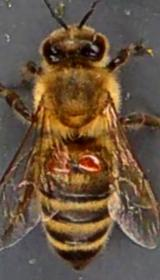varroa_mite: (69, 152, 105, 180)
